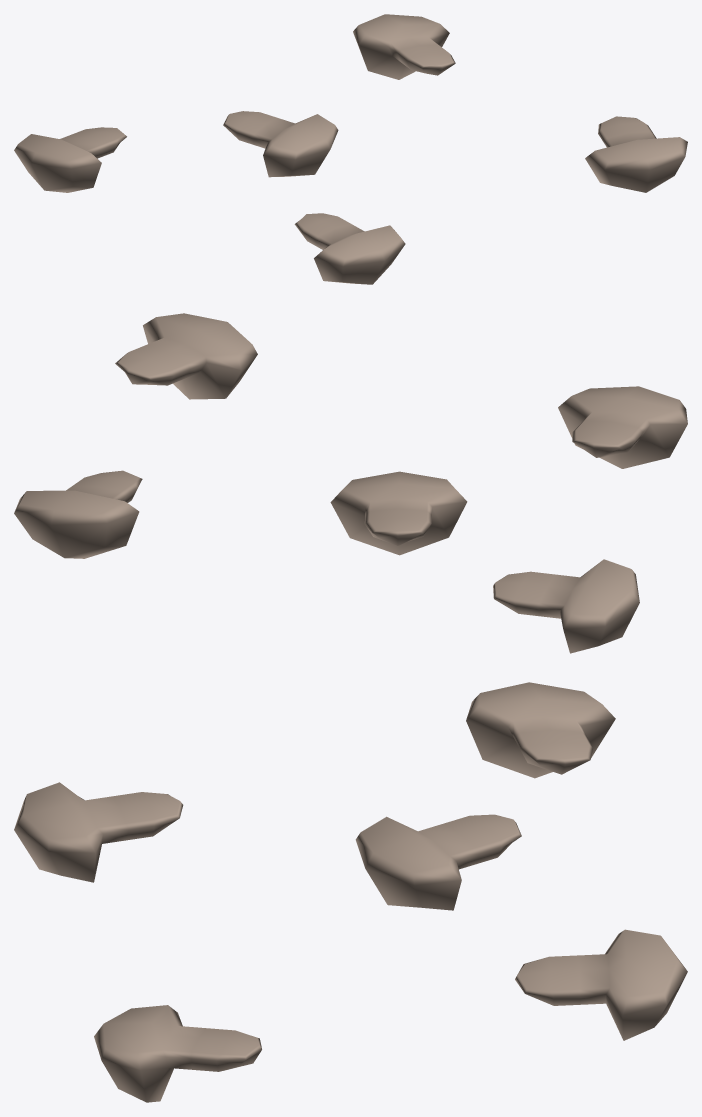
The model's file is mushrooms.glb.
3 renders of one model, top to bottom at view 1: azimuth 30°, elevation 25°; view 2: azimuth 150°, elevation 25°; view 3: azimuth 270°, elevation 25°, orthographic. The views are drawn at different scales.
Parts seen in each view (by area): view 1: polySurface162, polySurface129, polySurface128, polySurface163, polySurface130; view 2: polySurface162, polySurface163, polySurface130, polySurface129, polySurface128; view 3: polySurface130, polySurface128, polySurface163, polySurface129, polySurface162.
Boxes of the visible parts, left/top/right/bottom form: polySurface162: left=585, top=116, right=687, bottom=192; polySurface129: left=294, top=213, right=405, bottom=284; polySurface128: left=353, top=14, right=455, bottom=79; polySurface163: left=223, top=111, right=338, bottom=177; polySurface130: left=14, top=127, right=126, bottom=192; polySurface162: left=115, top=313, right=257, bottom=399; polySurface163: left=330, top=471, right=467, bottom=555; polySurface130: left=493, top=559, right=639, bottom=653; polySurface129: left=558, top=386, right=687, bottom=468; polySurface128: left=14, top=470, right=142, bottom=558; polySurface130: left=466, top=682, right=615, bottom=778; polySurface128: left=515, top=929, right=687, bottom=1040; polySurface163: left=355, top=814, right=521, bottom=910; polySurface129: left=14, top=782, right=183, bottom=882; polySurface162: left=94, top=1005, right=261, bottom=1102.
Size of the model in its own units: 0.057 by 0.00678 by 0.0441.
